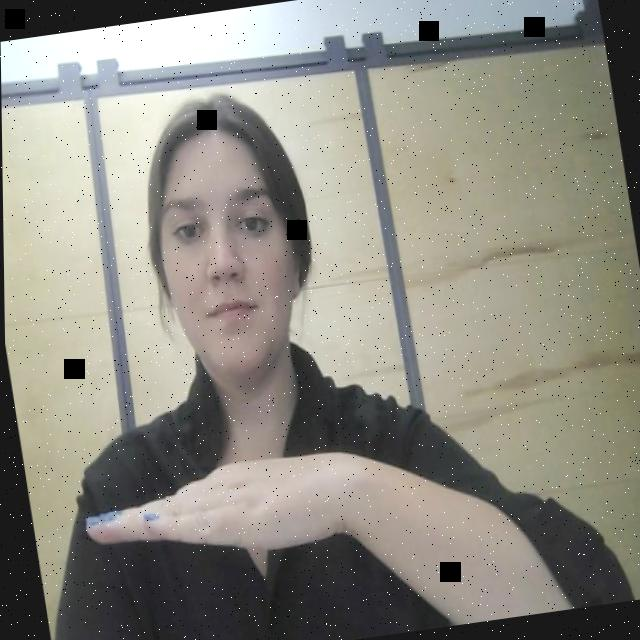Paper: (78, 430, 357, 588)
